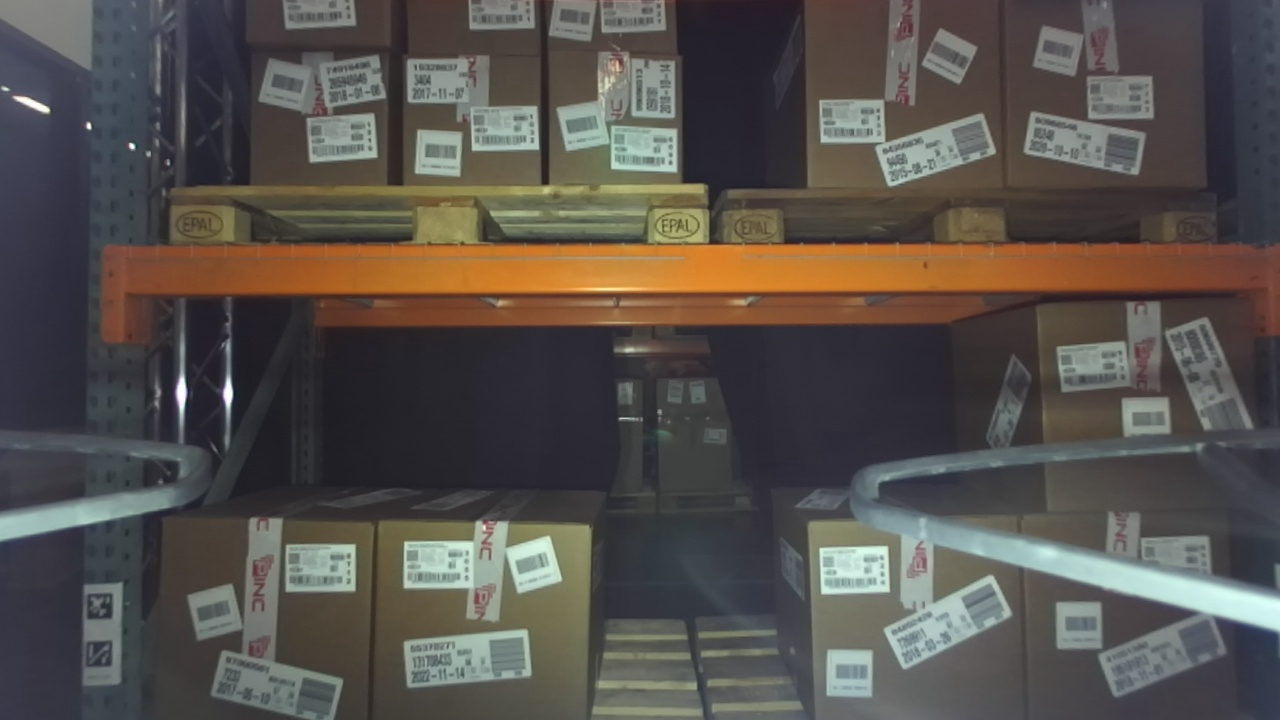box: (993, 287, 1280, 520), (1014, 488, 1280, 719), (138, 496, 399, 720), (780, 500, 1043, 720), (361, 500, 613, 720), (985, 1, 1234, 213), (786, 1, 1028, 213), (383, 24, 562, 208), (233, 28, 415, 202), (518, 22, 692, 203)
